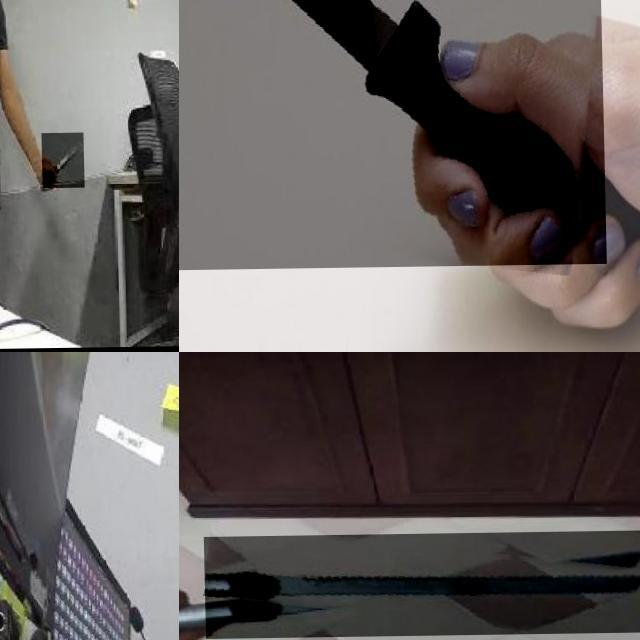-: (179, 0, 604, 270), (202, 531, 640, 639), (40, 134, 83, 189)
